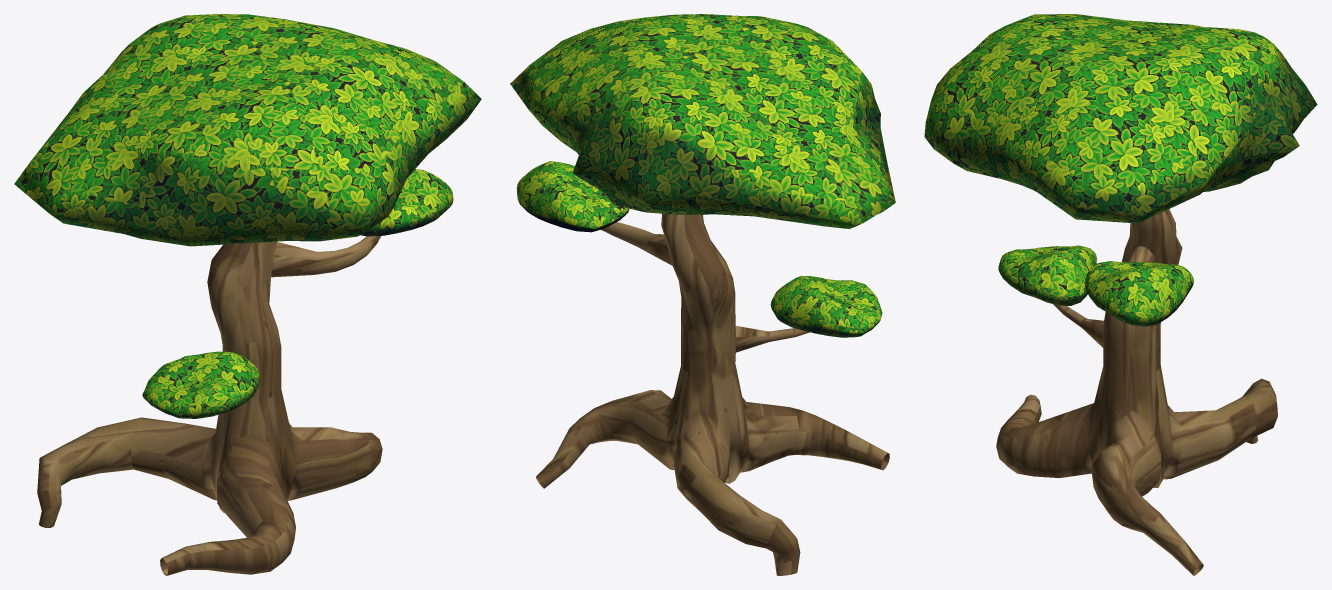
The model's file is LP_Tree.fbx.
3 renders of one model, left to right at view 1: azimuth 30°, elevation 25°; view 2: azimuth 150°, elevation 25°; view 3: azimuth 270°, elevation 25°, orthographic. The views are drawn at different scales.
Visible parts, largest first — view 1: pSphere3, pCylinder1, pSphere4, pSphere2; view 2: pSphere3, pCylinder1, pSphere4, pSphere2; view 3: pSphere3, pCylinder1, pSphere2, pSphere4.
Boxes of the visible parts, x1,y1,x2,y2 form: pSphere3: [14, 14, 481, 246]; pCylinder1: [37, 236, 382, 575]; pSphere4: [142, 351, 260, 418]; pSphere2: [361, 169, 453, 236]; pSphere3: [510, 14, 895, 229]; pCylinder1: [536, 213, 889, 575]; pSphere4: [770, 275, 882, 337]; pSphere2: [516, 161, 629, 232]; pSphere3: [924, 14, 1317, 223]; pCylinder1: [996, 209, 1277, 575]; pSphere2: [1085, 261, 1193, 326]; pSphere4: [998, 245, 1096, 305].
Bounding box in the file's own units: 681 × 775 × 579.
Materials: 4 (4 with a texture image).
